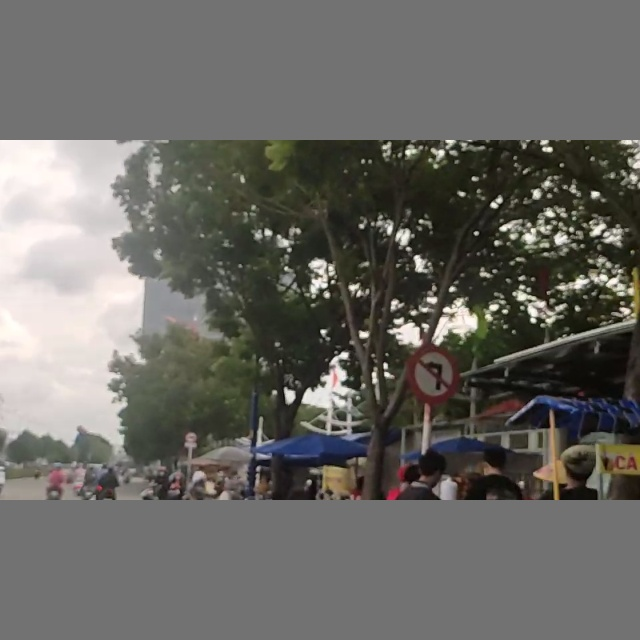P.123a: (410, 348, 456, 402)
